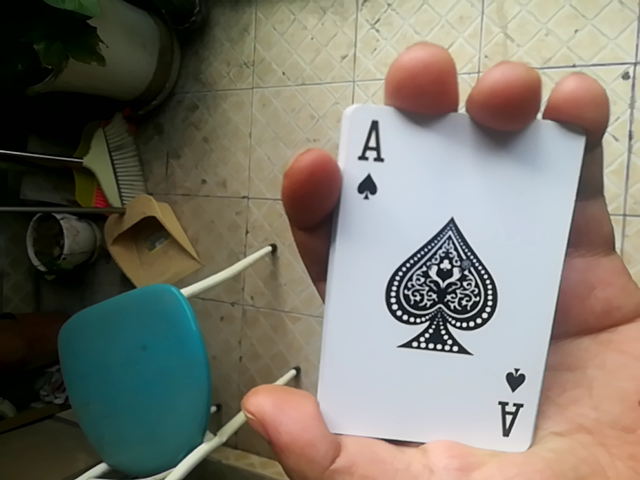ht a: (313, 116, 579, 450)
